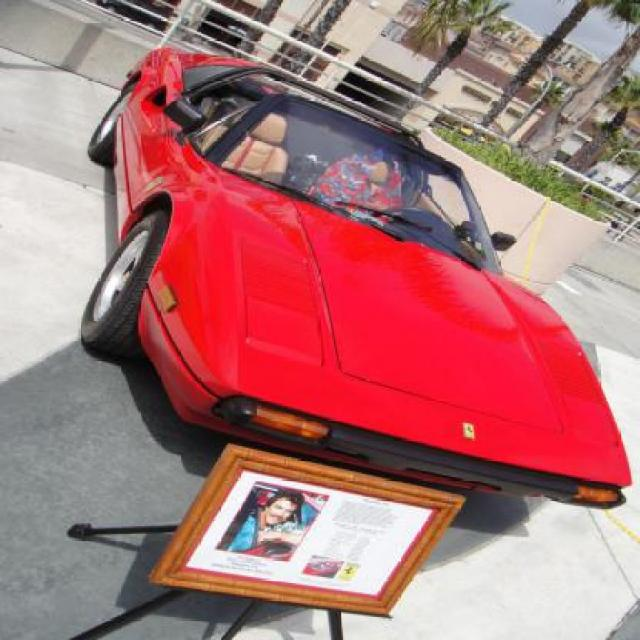truck: (80, 46, 635, 508)
